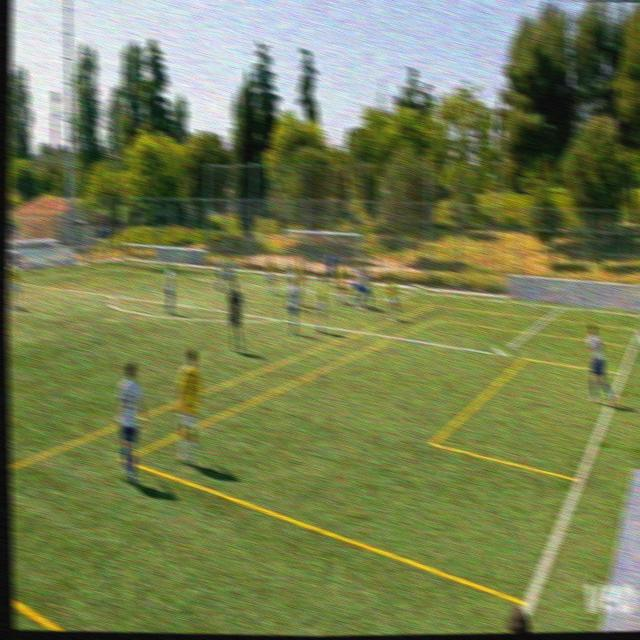bigarea_bottom_inner: (490, 340, 511, 364)
bigarea_bottom_outter: (551, 294, 574, 321)
bottom_arc_area_intersection: (267, 311, 287, 332)
corner: (114, 258, 125, 264), (637, 305, 640, 323)
smallarea_bottom_outter: (410, 284, 424, 300)
smallarea_top_inner: (195, 272, 204, 285)
smallarea_top_outter: (232, 270, 242, 278)
top_arc_area_intersection: (102, 289, 118, 304)
